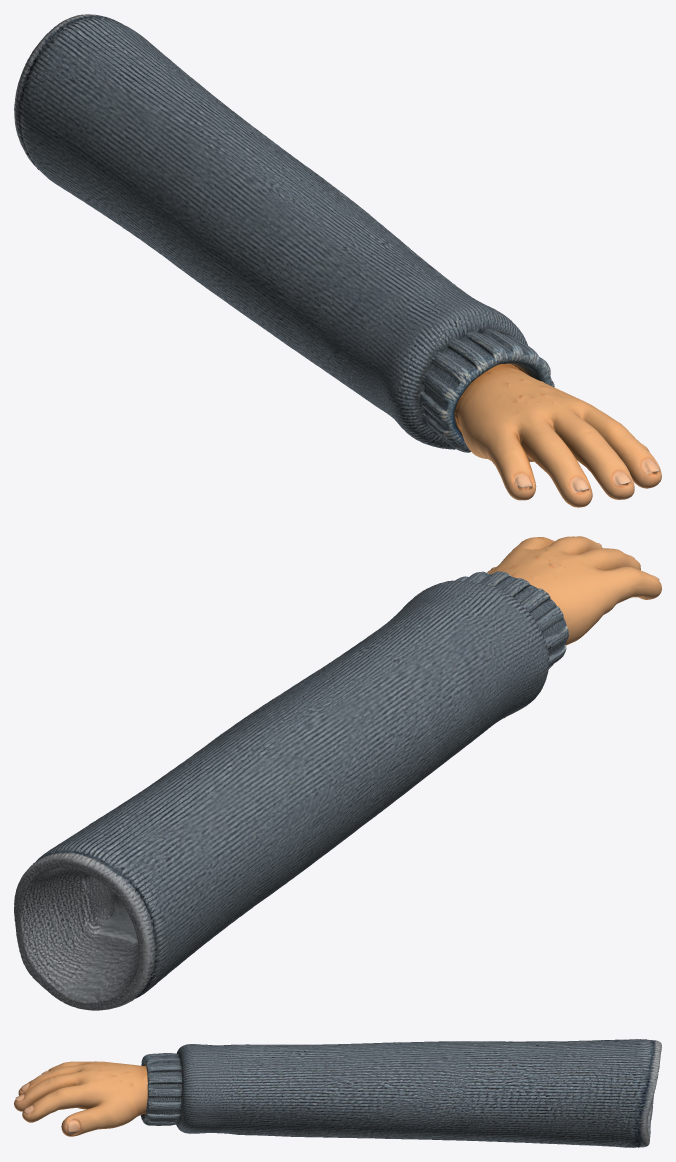
The model's file is hand.high.glb.
The picture shows the model from 3 angles, top to bottom: view 1: azimuth 30°, elevation 25°; view 2: azimuth 150°, elevation 25°; view 3: azimuth 270°, elevation 25°; orthographic projection. The views are drawn at different scales.
Parts seen in each view (by area): view 1: tripo_node_8442767b-0a98-456e-8964-27694c30c98e; view 2: tripo_node_8442767b-0a98-456e-8964-27694c30c98e; view 3: tripo_node_8442767b-0a98-456e-8964-27694c30c98e.
Boxes of the visible parts, x1,y1,x2,y2 form: tripo_node_8442767b-0a98-456e-8964-27694c30c98e: (14, 14, 661, 507); tripo_node_8442767b-0a98-456e-8964-27694c30c98e: (14, 536, 661, 1010); tripo_node_8442767b-0a98-456e-8964-27694c30c98e: (14, 1039, 661, 1147).
Bounding box in the file's own units: 0.1331 × 0.1301 × 0.776.
1 material, 1 textured.
